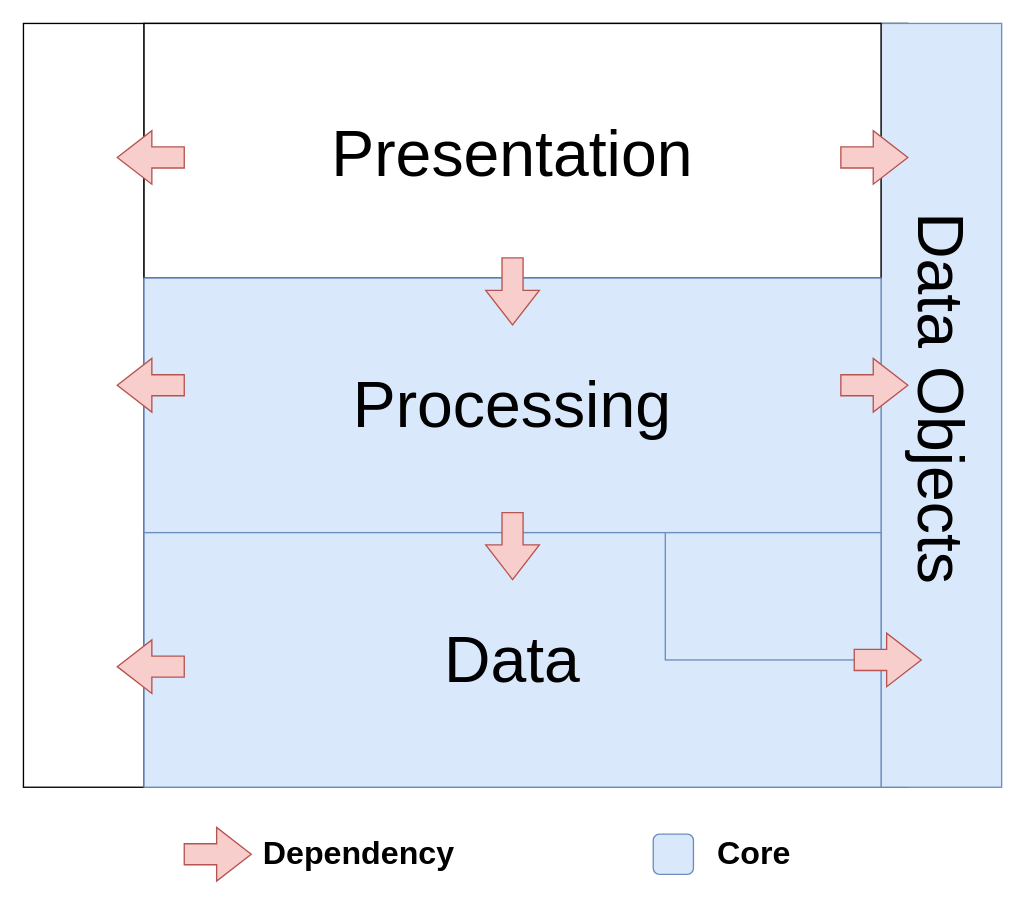
The diagram is 1025 pixels wide and 905 high, and some of its shapes have lost their labels. The shapes that lost their labels are listed below. From the top down, each one's centre as x and y in pixels, then its label:
point (83, 404): System
point (772, 595): Networking
